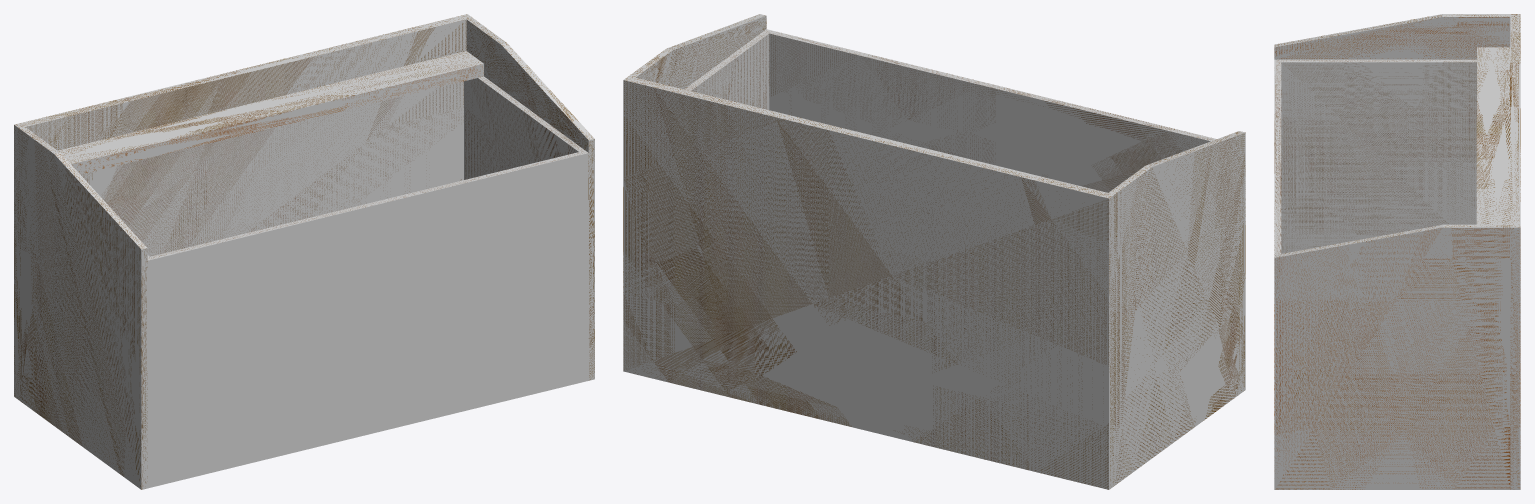
File: original-7.obj
3 views of the same model, side by side, from view 1: azimuth 30°, elevation 25°; view 2: azimuth 150°, elevation 25°; view 3: azimuth 270°, elevation 25° (orthographic). The views are drawn at different scales.
Visible parts, largest first — view 1: mesh8/mesh8-geometry#mesh8-geometry; view 2: mesh8/mesh8-geometry#mesh8-geometry; view 3: mesh8/mesh8-geometry#mesh8-geometry.
Boxes of the visible parts, x1=… form: mesh8/mesh8-geometry#mesh8-geometry: x1=14, y1=14, x2=594, y2=489; mesh8/mesh8-geometry#mesh8-geometry: x1=623, y1=14, x2=1245, y2=489; mesh8/mesh8-geometry#mesh8-geometry: x1=1274, y1=14, x2=1520, y2=489.
Size of the model in its own units: 1.48 by 0.8491 by 0.7213.
Materials: 4 (3 with a texture image).
